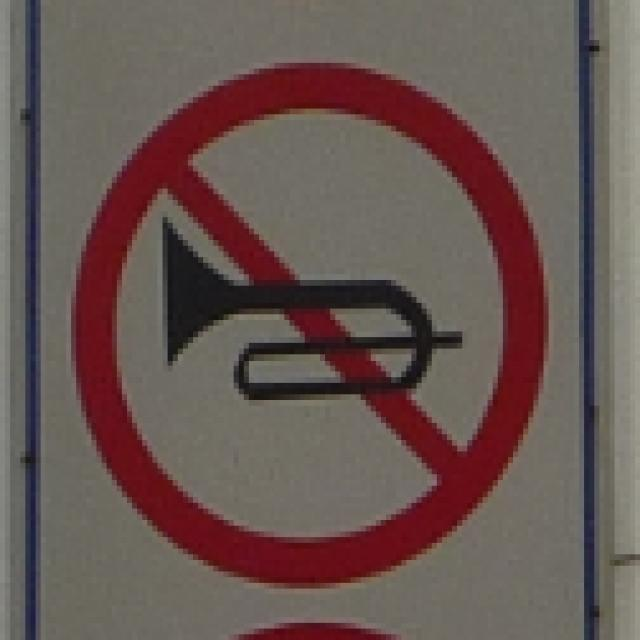No Horn: (63, 54, 550, 592)
